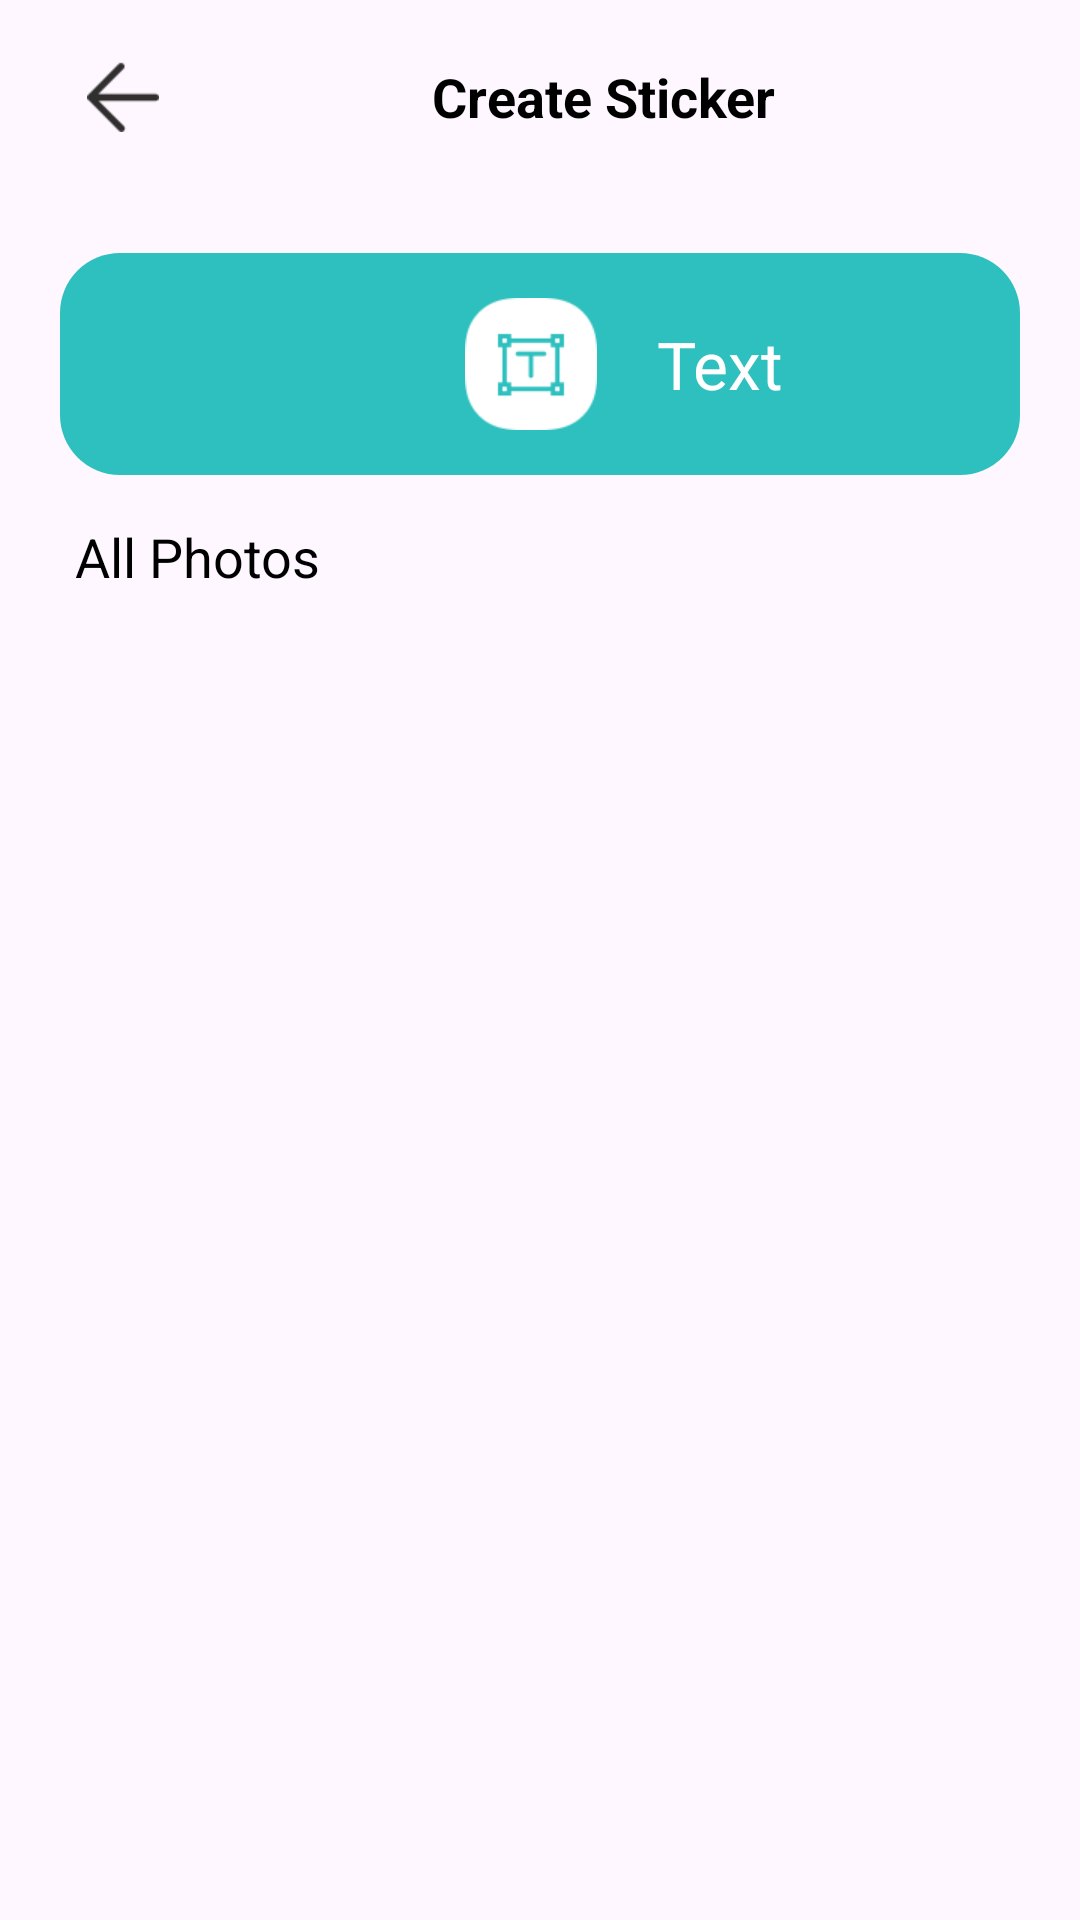

Where to tap for icons on this 1080*1920 app screen, as point (x, y):
back: point (123, 97)
